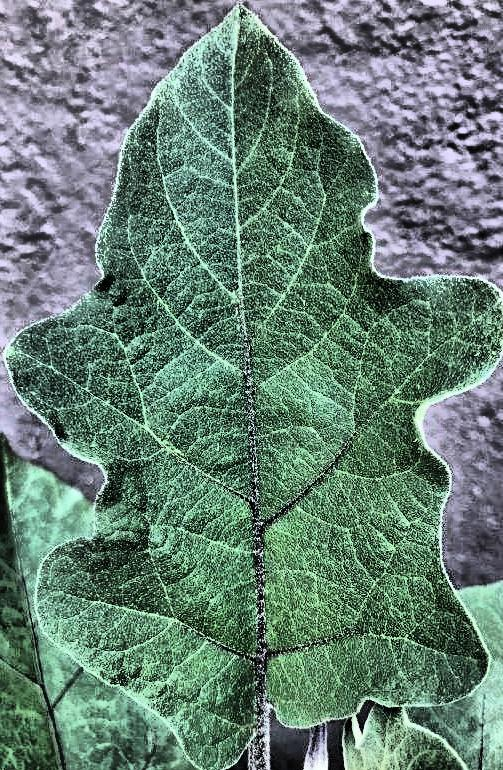HEALTHY: (1, 0, 503, 770)
